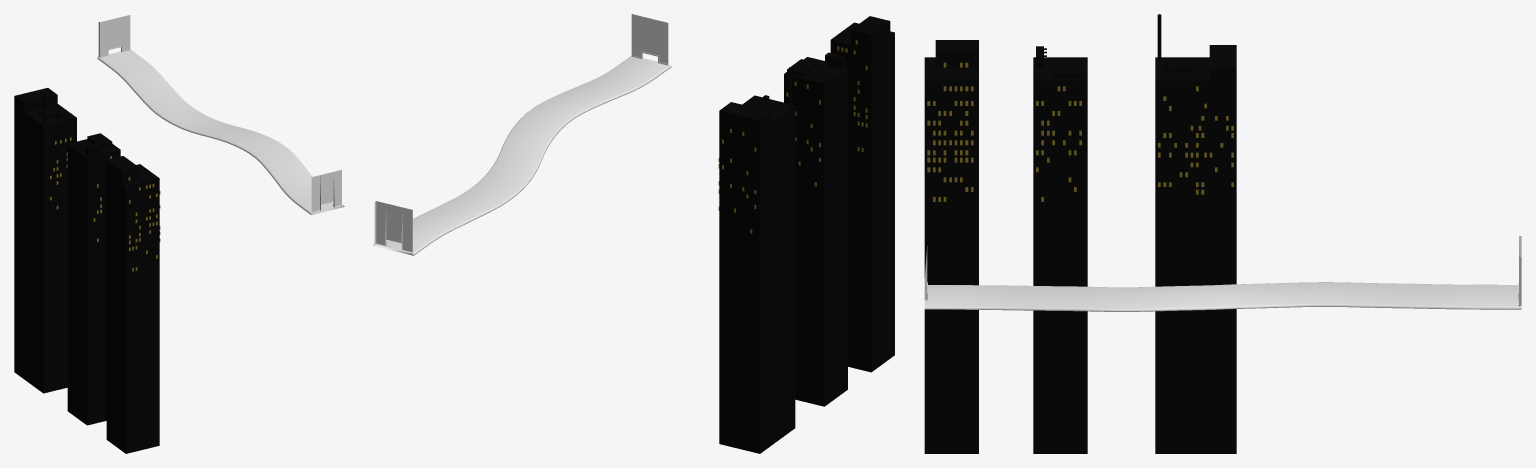
The model's file is CameoRoom2.fbx.
3 renders of one model, left to right at view 1: azimuth 30°, elevation 25°; view 2: azimuth 150°, elevation 25°; view 3: azimuth 270°, elevation 25°, orthographic. The views are drawn at different scales.
Parts seen in each view (by area): view 1: CameoRoom2Building2Object, CameoRoom2Building0Object, CameoRoom2Building1Object, CameoRoom2Object; view 2: CameoRoom2Building2Object, CameoRoom2Building1Object, CameoRoom2Building0Object, CameoRoom2Object; view 3: CameoRoom2Building2Object, CameoRoom2Building0Object, CameoRoom2Building1Object, CameoRoom2Object.
Part boxes in pixels (x1,y1,x2,y2): CameoRoom2Building2Object: (14, 88, 76, 393); CameoRoom2Building0Object: (106, 156, 160, 453); CameoRoom2Building1Object: (67, 133, 120, 425); CameoRoom2Object: (97, 15, 344, 214); CameoRoom2Building2Object: (718, 67, 795, 453); CameoRoom2Building1Object: (784, 52, 847, 406); CameoRoom2Building0Object: (830, 16, 894, 372); CameoRoom2Object: (373, 14, 671, 255); CameoRoom2Building2Object: (1155, 14, 1236, 453); CameoRoom2Building0Object: (924, 40, 978, 453); CameoRoom2Building1Object: (1033, 46, 1087, 453); CameoRoom2Object: (924, 236, 1521, 311).
Size of what is drawn, in the model's own units: 137 by 221 by 170.
